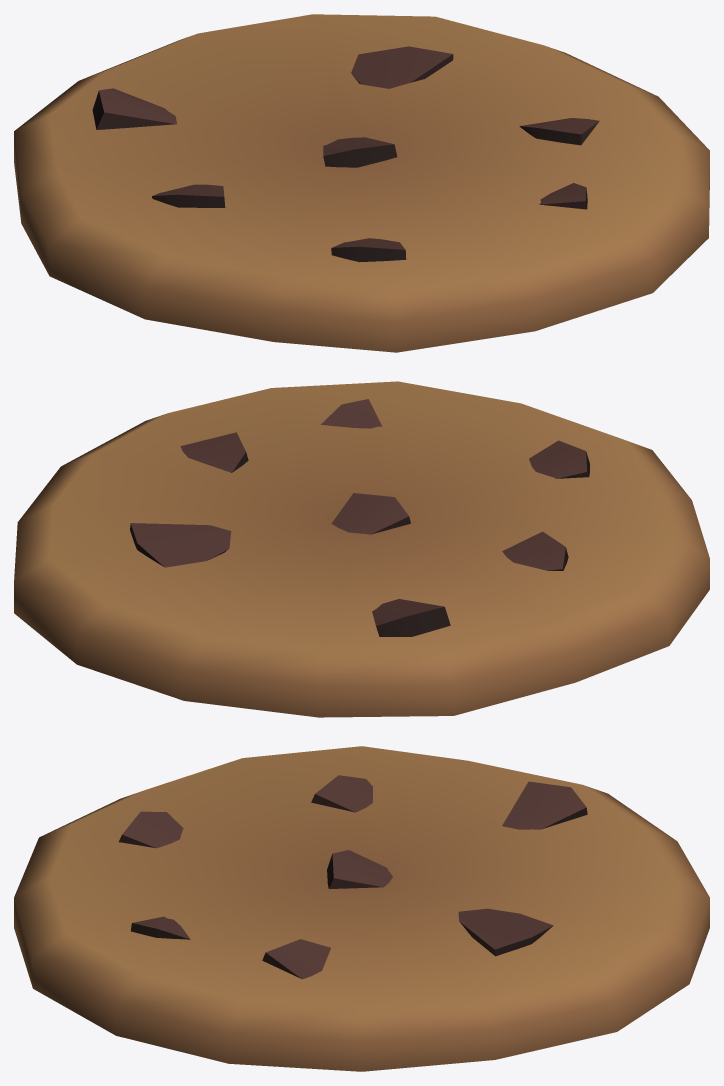
The model's file is consumables-sugar-cookie_v1.glb.
The picture shows the model from 3 angles, top to bottom: view 1: azimuth 30°, elevation 25°; view 2: azimuth 150°, elevation 25°; view 3: azimuth 270°, elevation 25°; orthographic projection. The views are drawn at different scales.
Parts seen in each view (by area): view 1: Cookie.001; view 2: Cookie.001; view 3: Cookie.001.
Boxes of the visible parts, left/top/right/bottom form: Cookie.001: left=14, top=14, right=709, bottom=352; Cookie.001: left=14, top=381, right=709, bottom=717; Cookie.001: left=14, top=746, right=709, bottom=1071.
Size of the model in its own units: 0.1434 by 0.0157 by 0.145.
